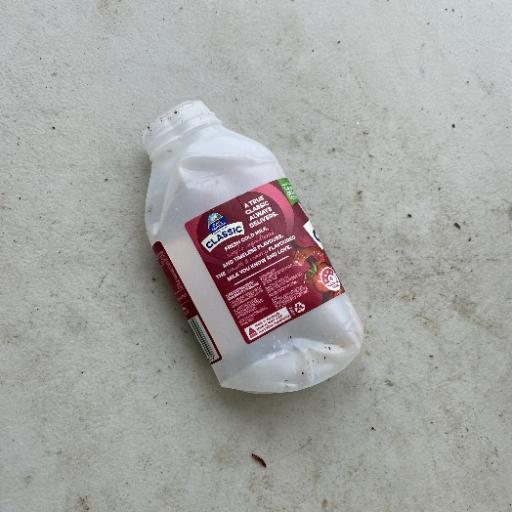Plastic: (138, 96, 366, 396)
